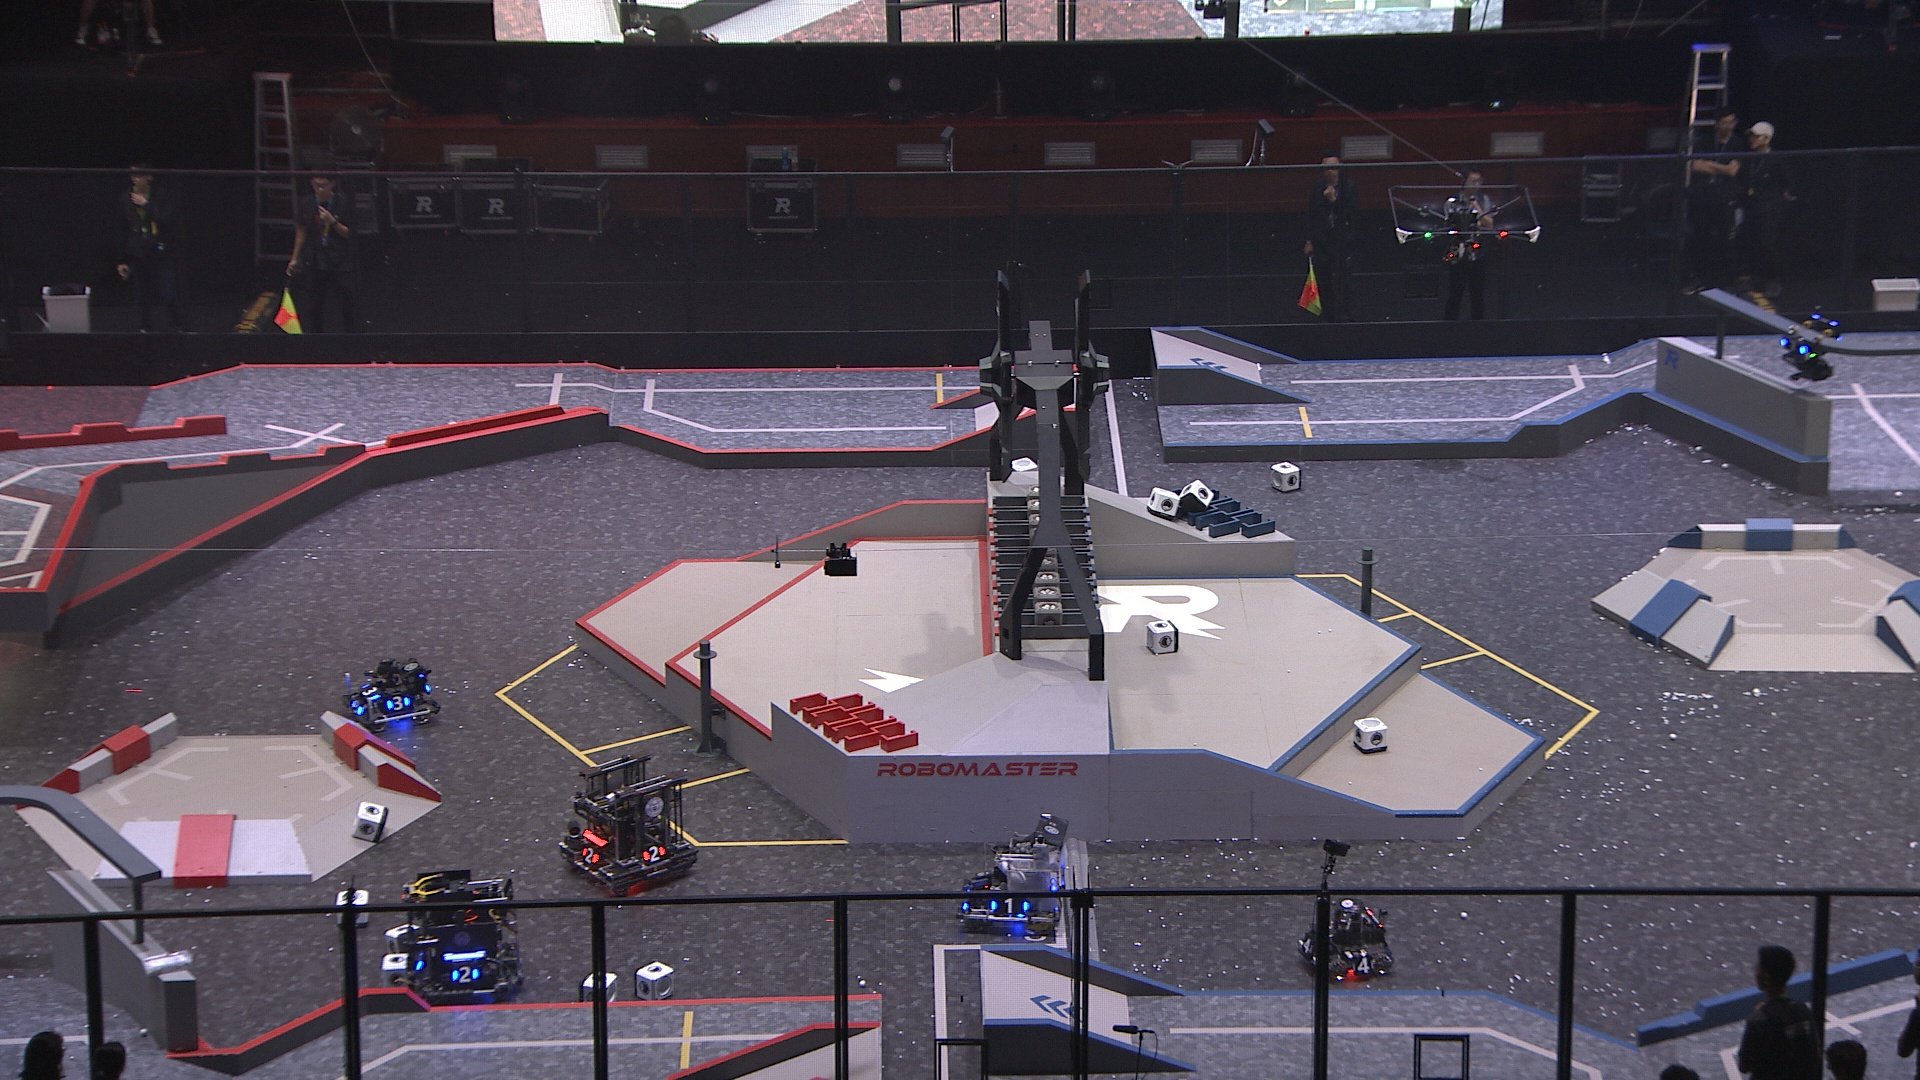armor: (989, 897, 1033, 915), (1780, 334, 1811, 357), (451, 963, 480, 986), (1348, 957, 1378, 977), (969, 872, 994, 895), (384, 694, 410, 713), (638, 843, 666, 861), (361, 680, 382, 702), (348, 694, 365, 719), (1299, 934, 1315, 957), (580, 847, 600, 865)
car: (556, 750, 703, 891), (404, 864, 531, 1007), (953, 814, 1073, 932), (1296, 897, 1394, 982), (342, 655, 442, 733)
watcher: (1776, 301, 1844, 384)
